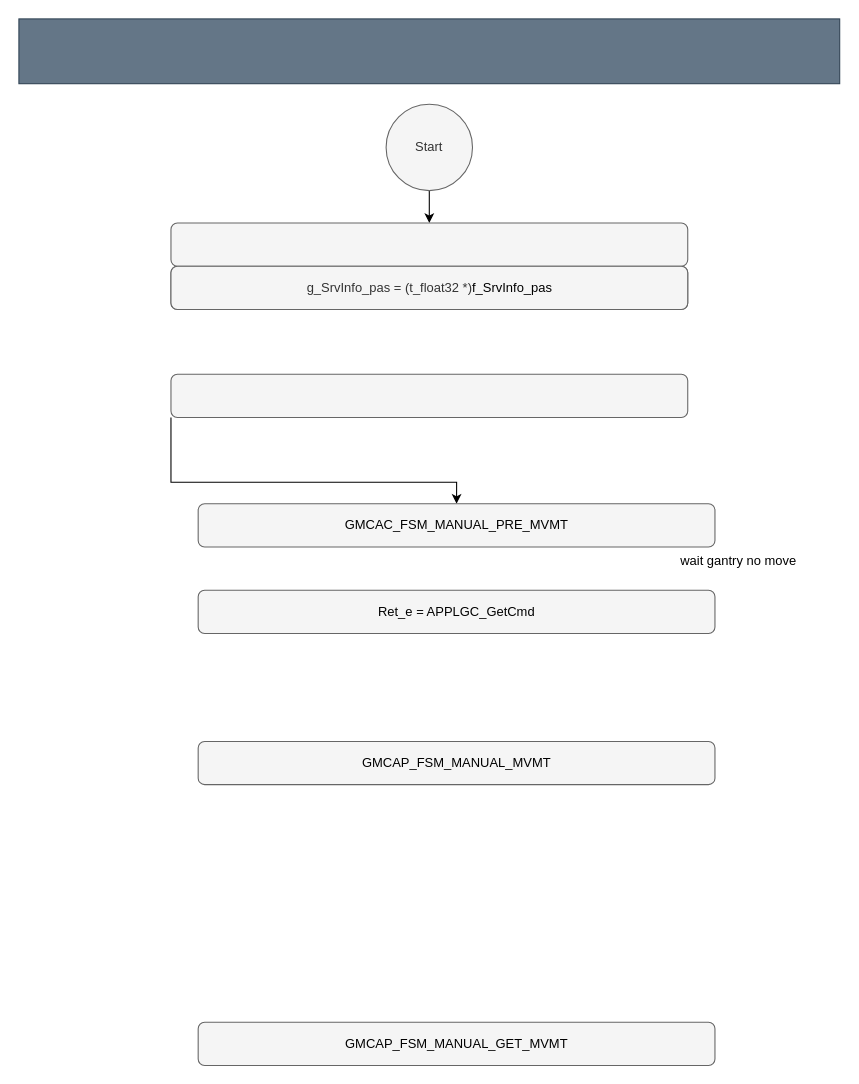
This 859x1084 diagram has some shape labels left out. The box of each missing label's shape, as (x1, y1, x2, y2) in pixels:
g_SnsValue_paf32 = (t_float32 *) f_SnsValue_paf32: (170, 222, 688, 266)
GMCAC_Cyclic ( t_float32 * f_SnsValue_paf32, t_sAPPLGC_SrvFunc * f_SrvInfo_pas ): (18, 18, 840, 84)
switch case g_FSManual_e: (170, 373, 688, 417)
